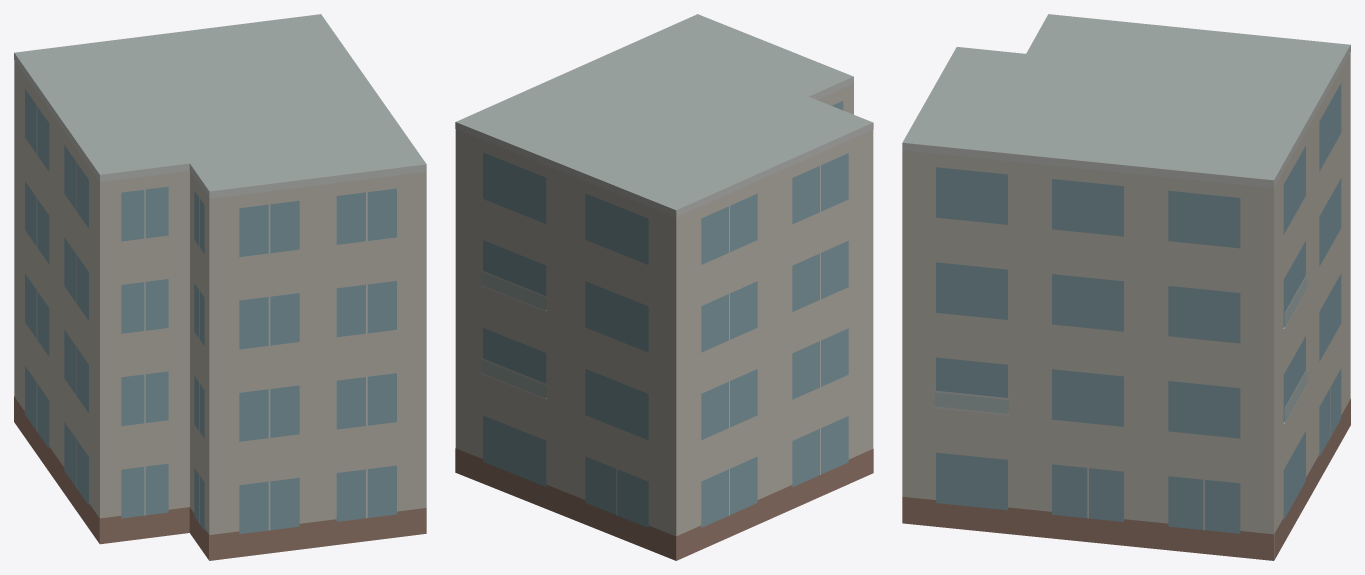
The model's file is residential-d498aadb-a5e3-4193-8c98-28cea11d13de.glb.
3 renders of one model, left to right at view 1: azimuth 30°, elevation 25°; view 2: azimuth 150°, elevation 25°; view 3: azimuth 270°, elevation 25°, orthographic. The views are drawn at different scales.
Parts seen in each view (by area): view 1: residential-d498aadb-a5e3-4193-8c98-28cea11d13de.tmp; view 2: residential-d498aadb-a5e3-4193-8c98-28cea11d13de.tmp; view 3: residential-d498aadb-a5e3-4193-8c98-28cea11d13de.tmp.
Part boxes in pixels (x1=…): residential-d498aadb-a5e3-4193-8c98-28cea11d13de.tmp: x1=14, y1=14, x2=426, y2=560; residential-d498aadb-a5e3-4193-8c98-28cea11d13de.tmp: x1=455, y1=14, x2=873, y2=560; residential-d498aadb-a5e3-4193-8c98-28cea11d13de.tmp: x1=902, y1=14, x2=1350, y2=560.
Size of the model in its own units: 11.44 by 12.2 by 13.04.
